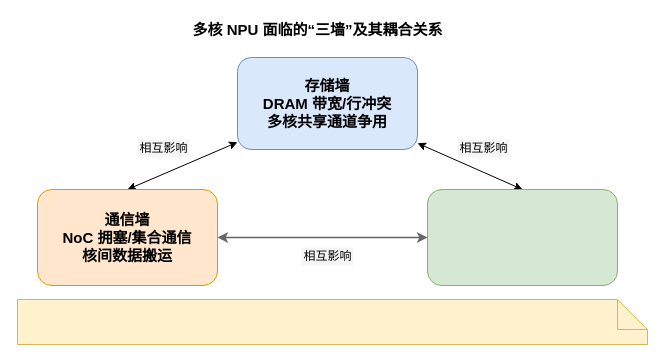
The diagram is 665 pixels wide and 362 high, and some of its shapes have lost their labels. The shapes that lost their labels are listed below. From the top down, each one's box as (x1, y1, x2, y2) in pixels, then its label:
(426, 188, 618, 286): 编译与调度墙 映射空间爆炸 代价模型与运行时语义鸿沟
(16, 298, 648, 344): 三墙高度耦合，单一维度优化或产生系统级负面效果 → 需端到端周期级模拟统一时间轴
